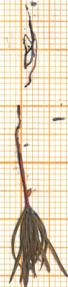flower: (4, 204, 68, 287)
root: (16, 2, 43, 89)
stem: (9, 104, 33, 206)
